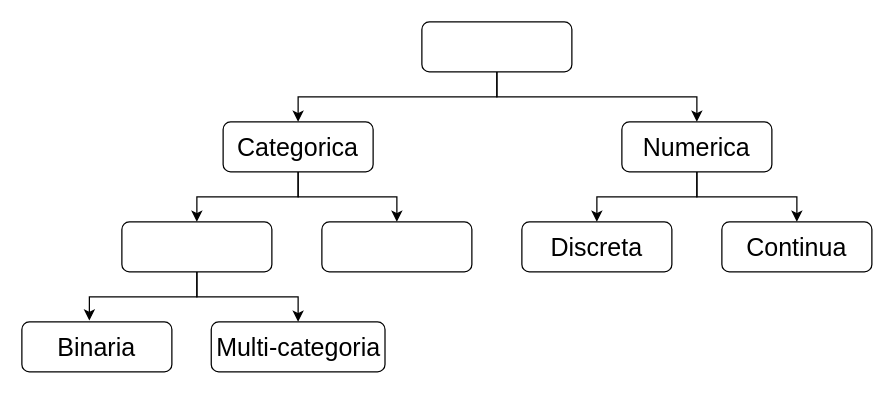
Image size: 894x394. Some labels were removed from this diagram. Here are the shapes that lost their labels. From the top down, the box of each, then its label:
(421, 21, 572, 72): Variabile
(121, 221, 272, 272): Nominale
(321, 221, 472, 272): Ordinale
